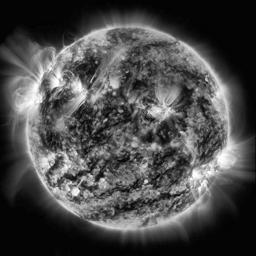solar flares: (145, 97, 177, 124), (187, 165, 205, 187), (46, 71, 64, 91), (68, 76, 85, 97)
sunspots: (176, 81, 195, 104), (78, 104, 93, 127), (78, 59, 97, 77), (41, 131, 58, 149), (156, 125, 171, 145), (133, 80, 149, 91)
